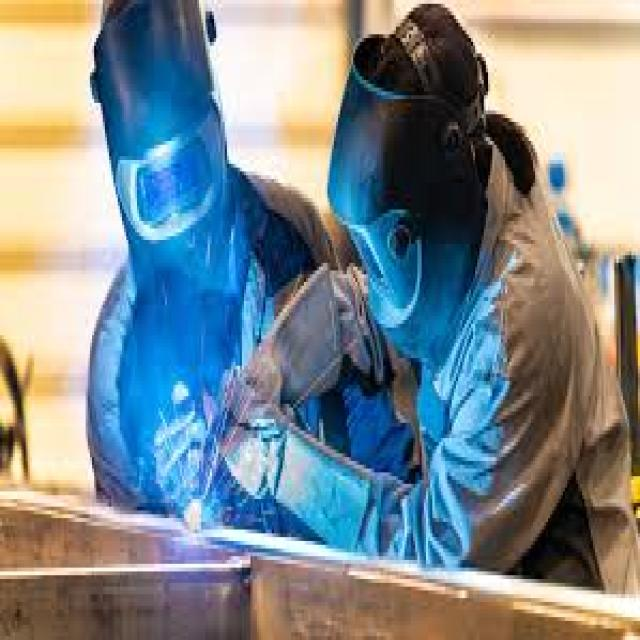welding: (183, 497, 207, 534)
